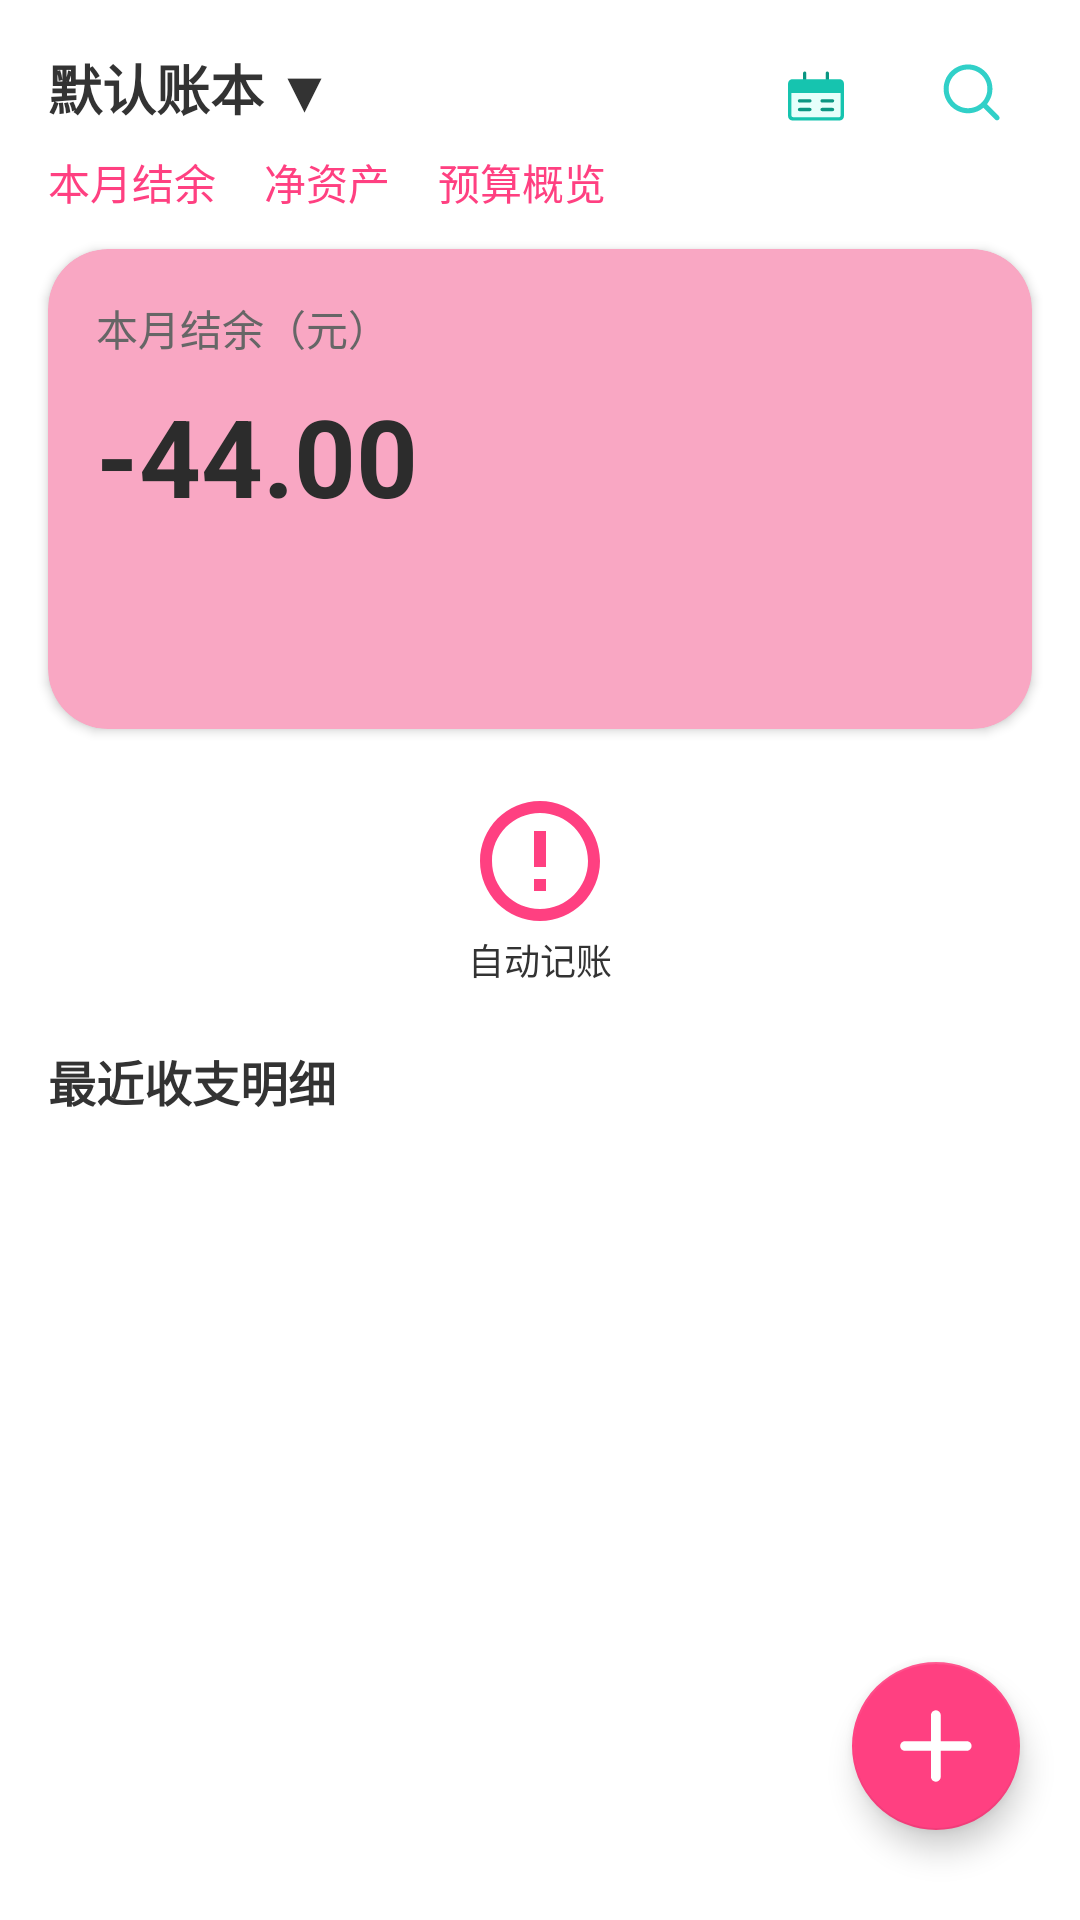

Point at icon controls on the screen. Image size 1080×1920, points as (x,y).
add: (936,1746)
calendar: (816,96)
search: (971,92)
